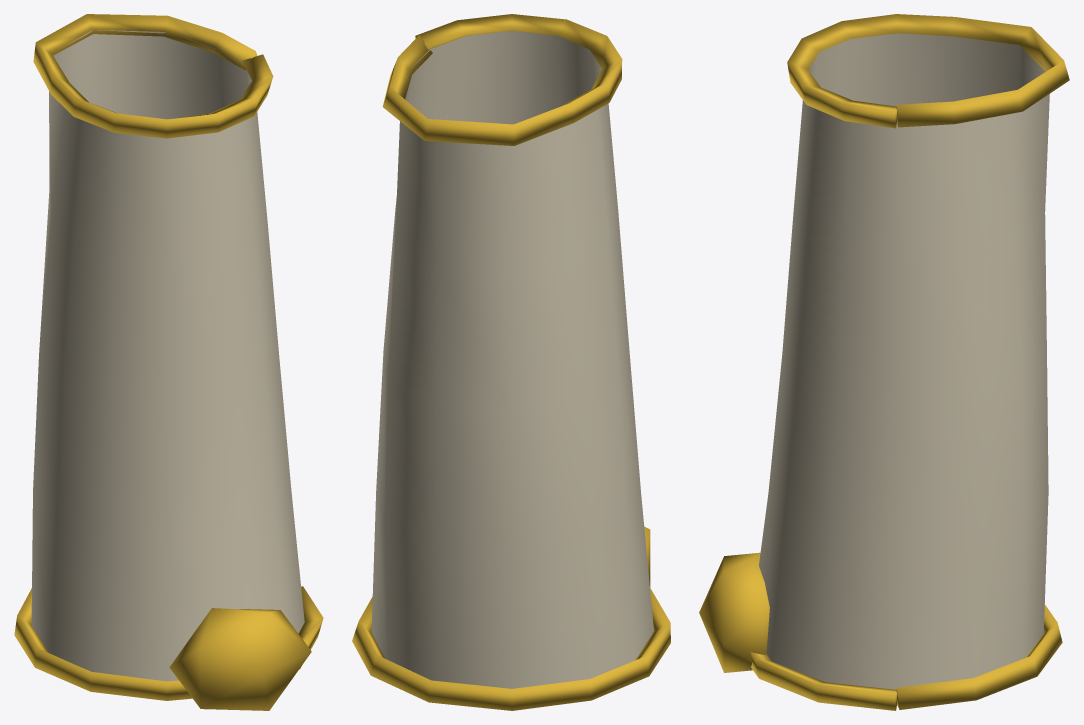
File: radiant_armor_greave.R.glb
3 renders of one model, left to right at view 1: azimuth 30°, elevation 25°; view 2: azimuth 150°, elevation 25°; view 3: azimuth 270°, elevation 25°, orthographic. The views are drawn at different scales.
Visible parts, largest first — view 1: radiant_armor_greave.R; view 2: radiant_armor_greave.R; view 3: radiant_armor_greave.R.
Part boxes in pixels (x1,y1,x2,y2): radiant_armor_greave.R: (14,14,323,710); radiant_armor_greave.R: (352,14,670,710); radiant_armor_greave.R: (699,14,1069,710).
Size of the model in its own units: 0.1941 by 0.4045 by 0.2252.
